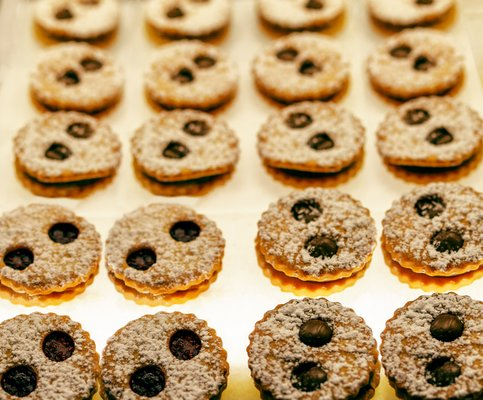salad: (247, 297, 380, 399), (104, 203, 226, 308), (99, 311, 229, 400), (257, 188, 378, 282), (379, 292, 483, 398), (0, 203, 103, 306), (381, 183, 483, 278), (0, 311, 101, 399), (13, 110, 122, 185), (367, 31, 465, 100), (30, 43, 125, 113), (144, 42, 239, 111)
sushi: (131, 108, 240, 183), (257, 100, 365, 175), (375, 96, 482, 170), (366, 30, 465, 101), (252, 33, 350, 104), (144, 42, 239, 111)
